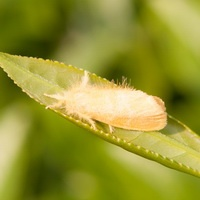insect: (48, 71, 166, 130)
